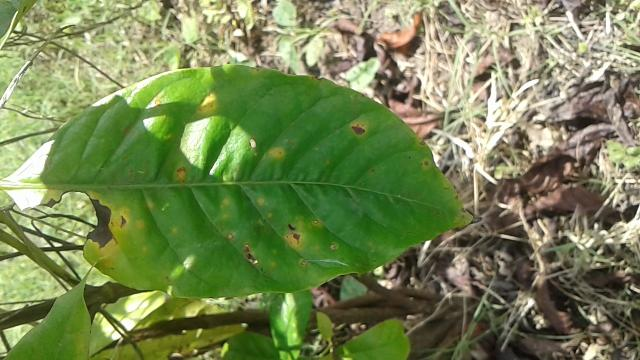rust_level_3: (0, 55, 491, 302)
